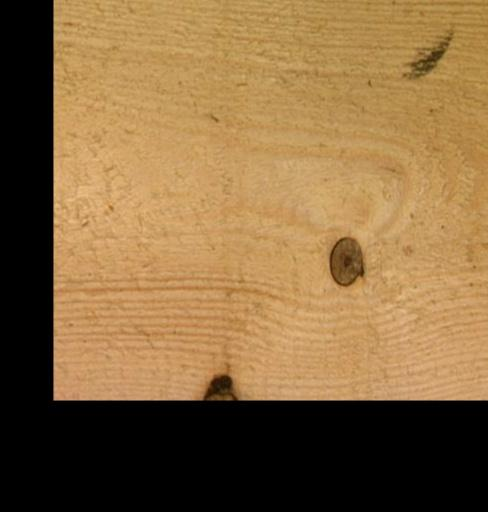dry_knot: (327, 235, 364, 287)
edge_knot: (200, 370, 238, 399)
